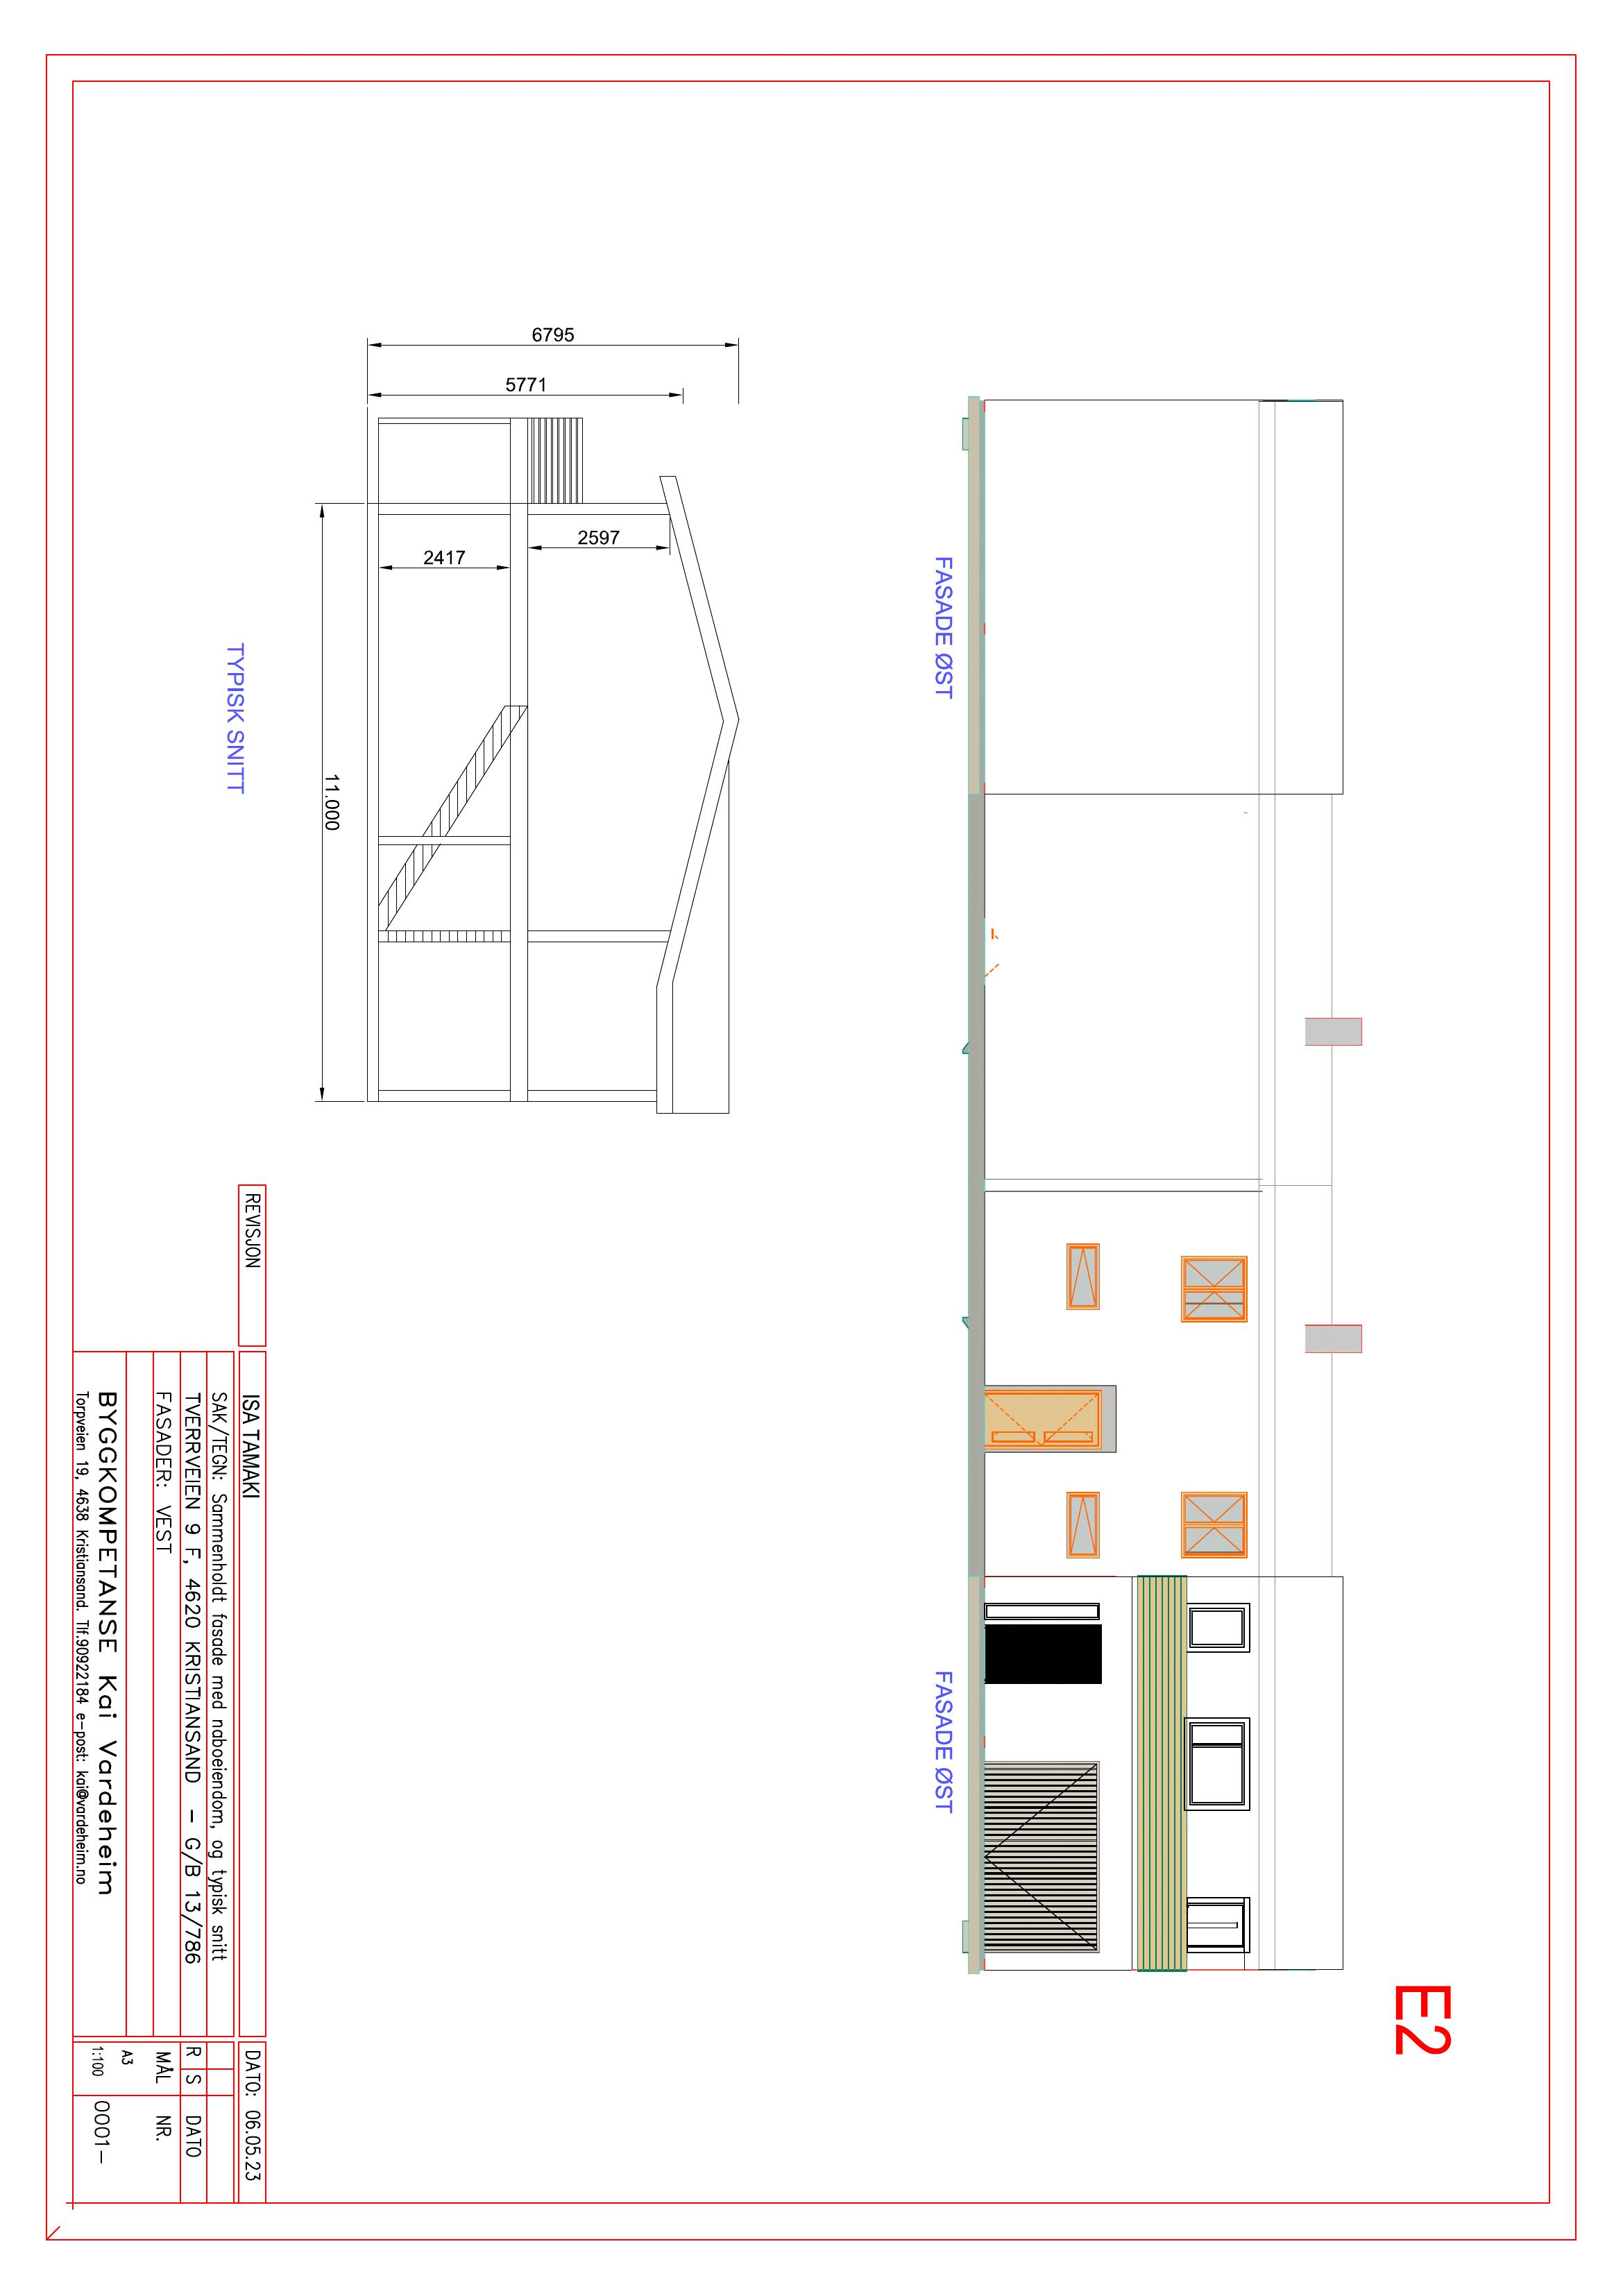fasade: (963, 390, 1382, 2006)
snitt: (320, 339, 768, 1177)
